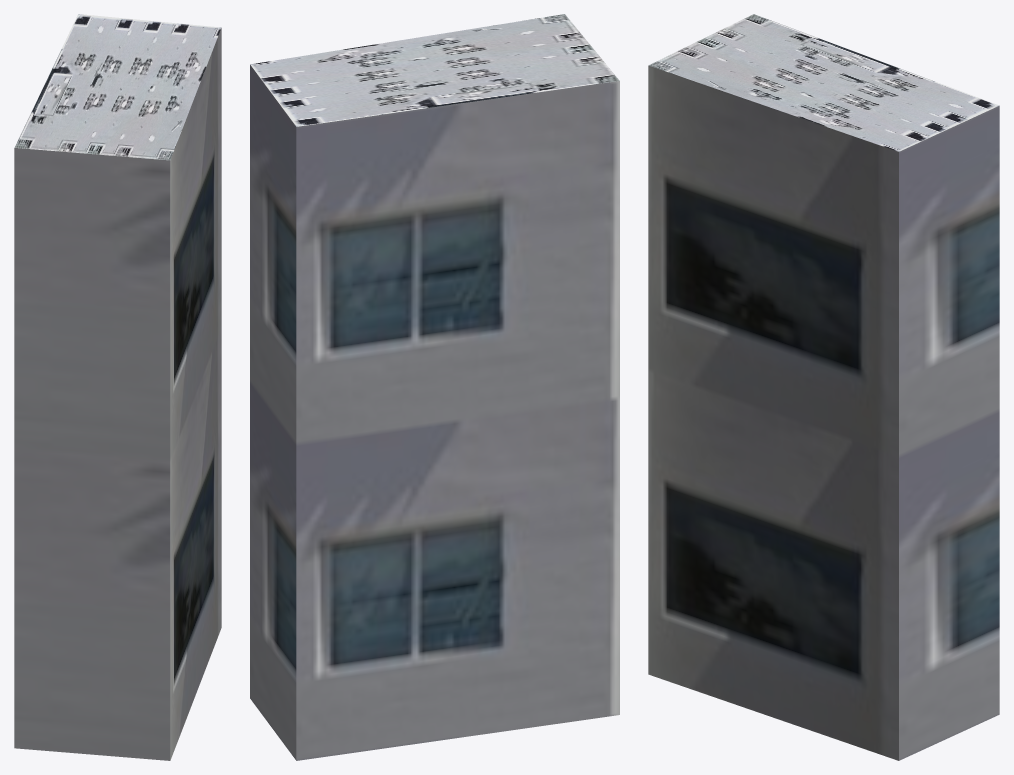
File: ResTex__1291.fbx
The picture shows the model from 3 angles, left to right: view 1: azimuth 30°, elevation 25°; view 2: azimuth 150°, elevation 25°; view 3: azimuth 270°, elevation 25°; orthographic projection. The views are drawn at different scales.
Visible parts, largest first — view 1: CityEngineMaterial_10_m, CityEngineMaterial_m; view 2: CityEngineMaterial_10_m, CityEngineMaterial_m; view 3: CityEngineMaterial_10_m, CityEngineMaterial_m.
Part boxes in pixels (box(x1,y1,x2,y2)): CityEngineMaterial_10_m: box(14, 28, 221, 760); CityEngineMaterial_m: box(14, 14, 221, 160); CityEngineMaterial_10_m: box(250, 65, 619, 760); CityEngineMaterial_m: box(250, 14, 619, 126); CityEngineMaterial_10_m: box(648, 65, 999, 760); CityEngineMaterial_m: box(648, 14, 998, 151).
Size of the model in its own units: 2.91 by 6 by 3.14.
Materials: 2 (2 with a texture image).
